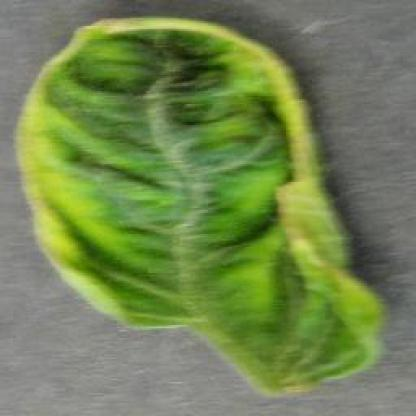bad leaf: (10, 11, 367, 287)
